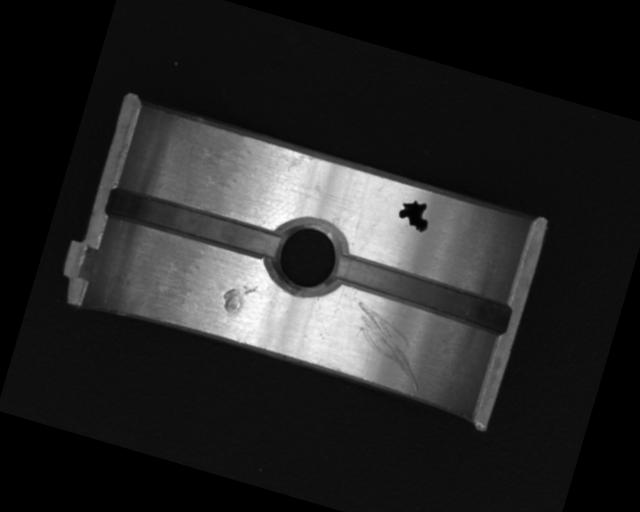blot: (394, 196, 434, 235)
bruise: (218, 276, 258, 318)
gap: (328, 251, 513, 337), (103, 185, 282, 264)
hole: (262, 210, 354, 303)
nick: (339, 301, 438, 392)
